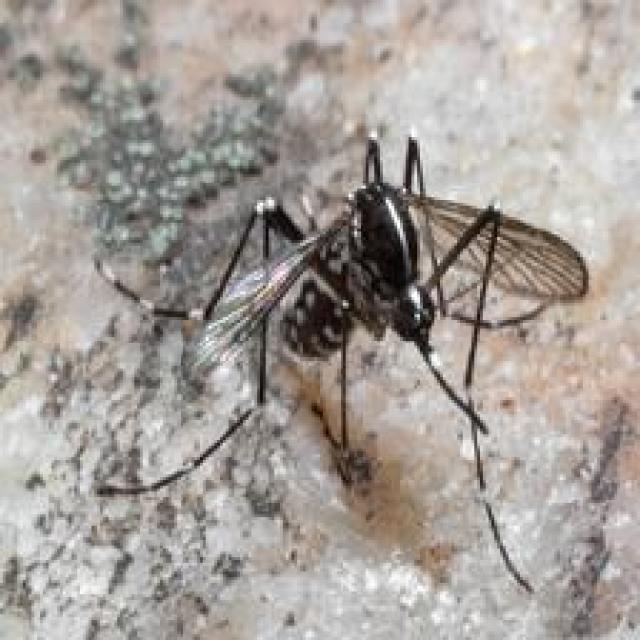Aedes albopictus: (90, 129, 590, 594)
